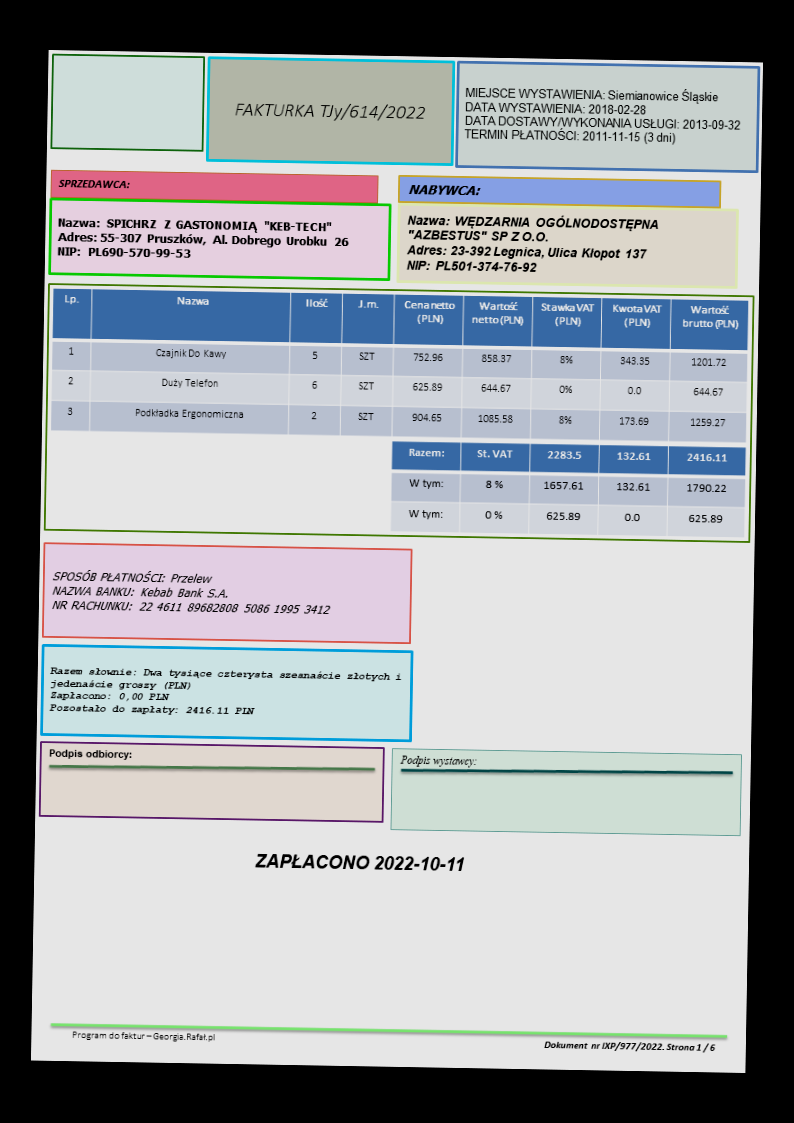Table: (49, 287, 749, 443), (389, 439, 747, 538)
TextBox: (48, 665, 401, 720), (462, 84, 743, 149), (404, 212, 660, 276), (56, 215, 350, 264), (49, 568, 332, 617), (252, 849, 467, 874), (232, 100, 426, 122), (541, 1039, 716, 1054), (69, 1029, 217, 1044), (46, 746, 134, 763), (397, 751, 477, 769), (55, 175, 131, 193), (406, 181, 482, 198)
